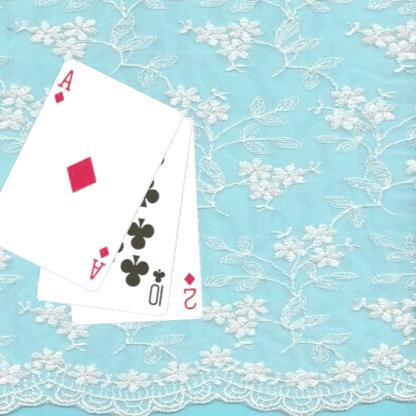10C: (146, 266, 167, 308)
2D: (181, 270, 198, 312)
AD: (51, 67, 76, 105), (87, 243, 111, 282)
